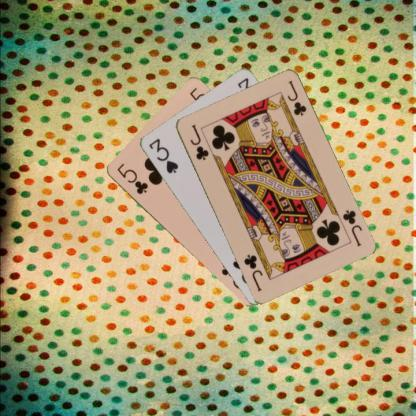3s: (146, 136, 180, 174)
5c: (114, 160, 149, 196)
Jc: (339, 207, 364, 248), (187, 121, 210, 162)
